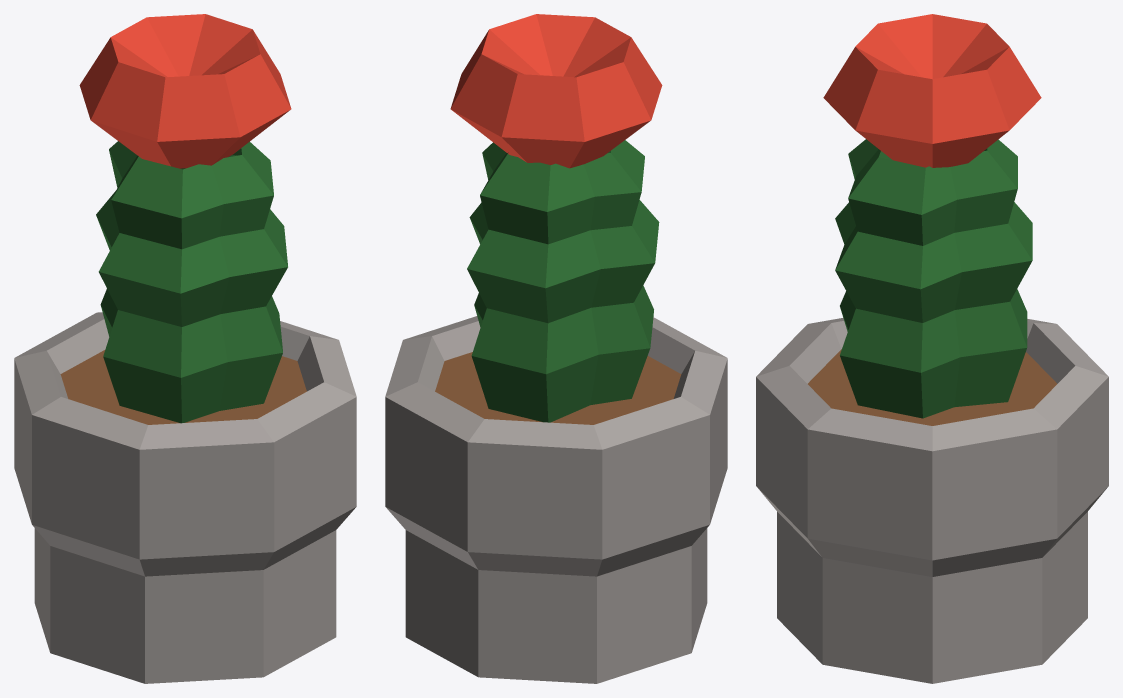
Rendered from furniture_pot-small-circle-cactus-c.fbx.
3 renders of one model, left to right at view 1: azimuth 30°, elevation 25°; view 2: azimuth 150°, elevation 25°; view 3: azimuth 270°, elevation 25°, orthographic.
Parts seen in each view (by area): view 1: furniture_pot_small_circle_cactus_c; view 2: furniture_pot_small_circle_cactus_c; view 3: furniture_pot_small_circle_cactus_c.
Part boxes in pixels (<box>): furniture_pot_small_circle_cactus_c: <box>14,14,356,683</box>; furniture_pot_small_circle_cactus_c: <box>385,14,727,683</box>; furniture_pot_small_circle_cactus_c: <box>756,14,1108,683</box>.
Bounding box in the file's own units: 112 × 200 × 112.
